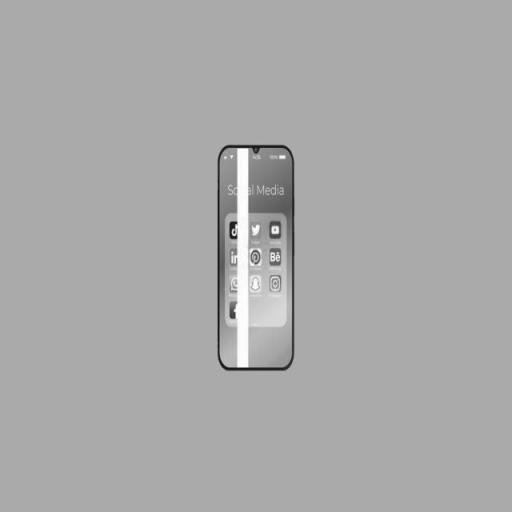phone: (212, 144, 300, 381)
